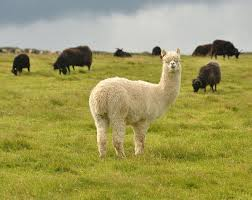alpaca: (89, 48, 181, 160)
